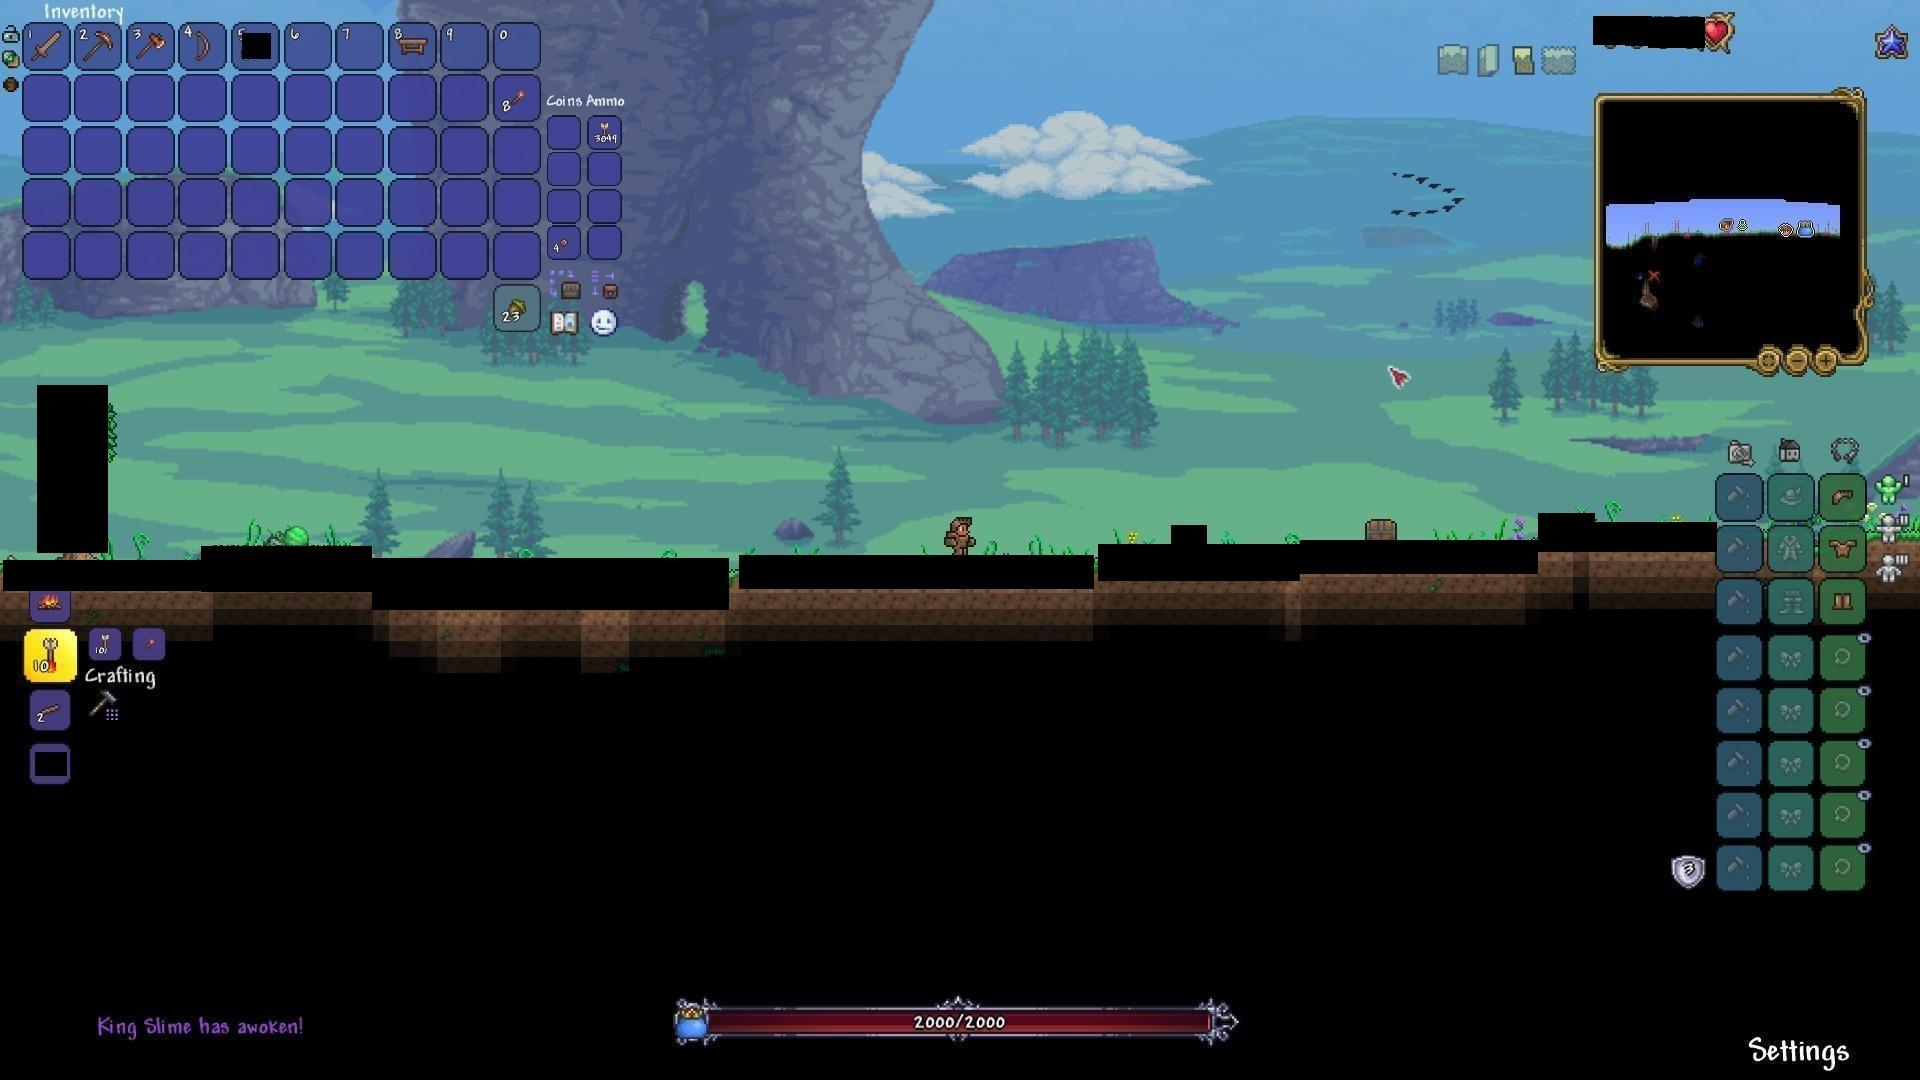breastplate: (1830, 538, 1859, 559)
heart: (1704, 17, 1731, 47)
helmet: (1829, 483, 1859, 510)
legs: (1832, 587, 1855, 616)
slime: (277, 527, 313, 553)
workbench: (394, 36, 431, 61)
